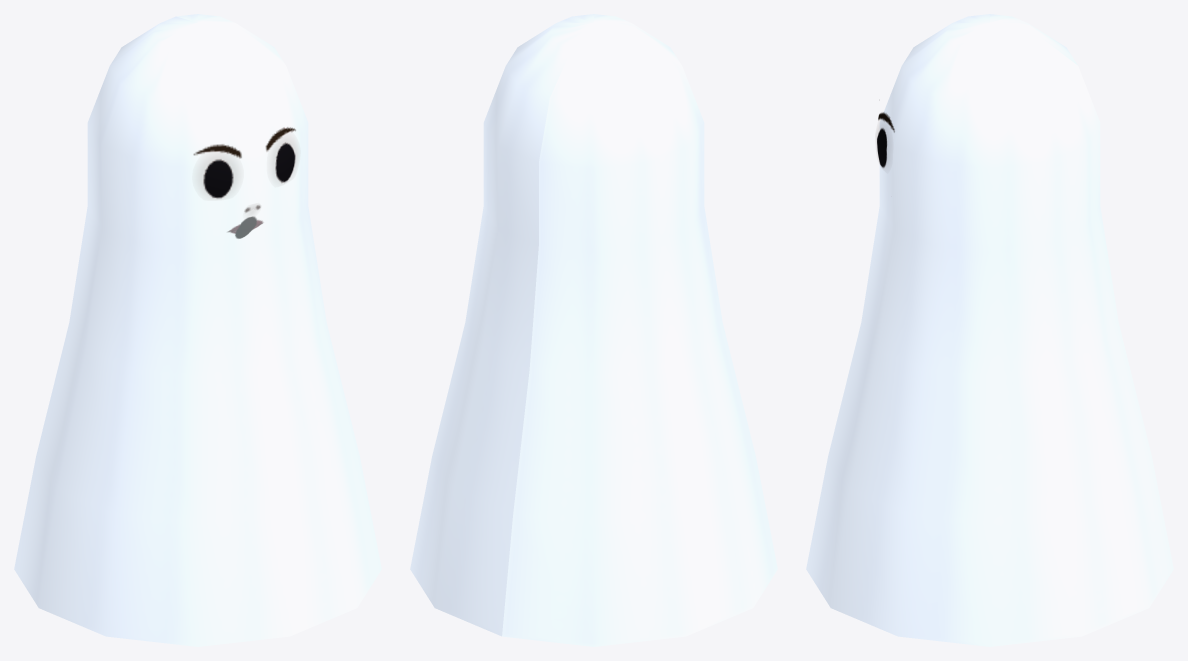
Rendered from wisp.glb.
3 views of the same model, side by side, from view 1: azimuth 30°, elevation 25°; view 2: azimuth 150°, elevation 25°; view 3: azimuth 270°, elevation 25° (orthographic).
Visible parts, largest first — view 1: object 1, head; view 2: object 1; view 3: object 1.
Boxes of the visible parts, box(x1,y1,x2,y2) form: object 1: box(14, 14, 381, 646); head: box(193, 127, 295, 238); object 1: box(410, 14, 777, 646); object 1: box(806, 14, 1173, 646).
Bounding box in the file's own units: 0.85 × 1.39 × 0.85.
Materials: 2 (2 with a texture image).
